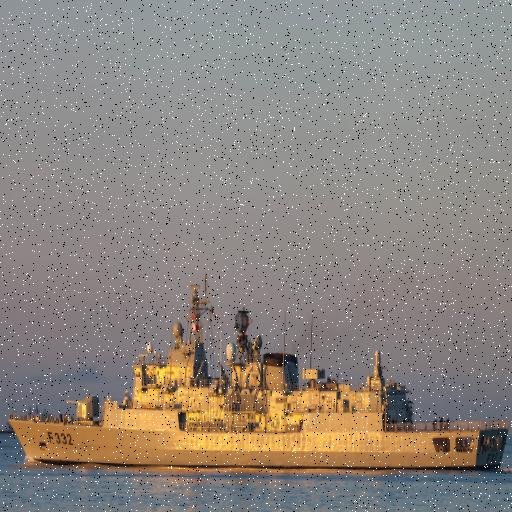Fragata: (5, 280, 512, 474)
